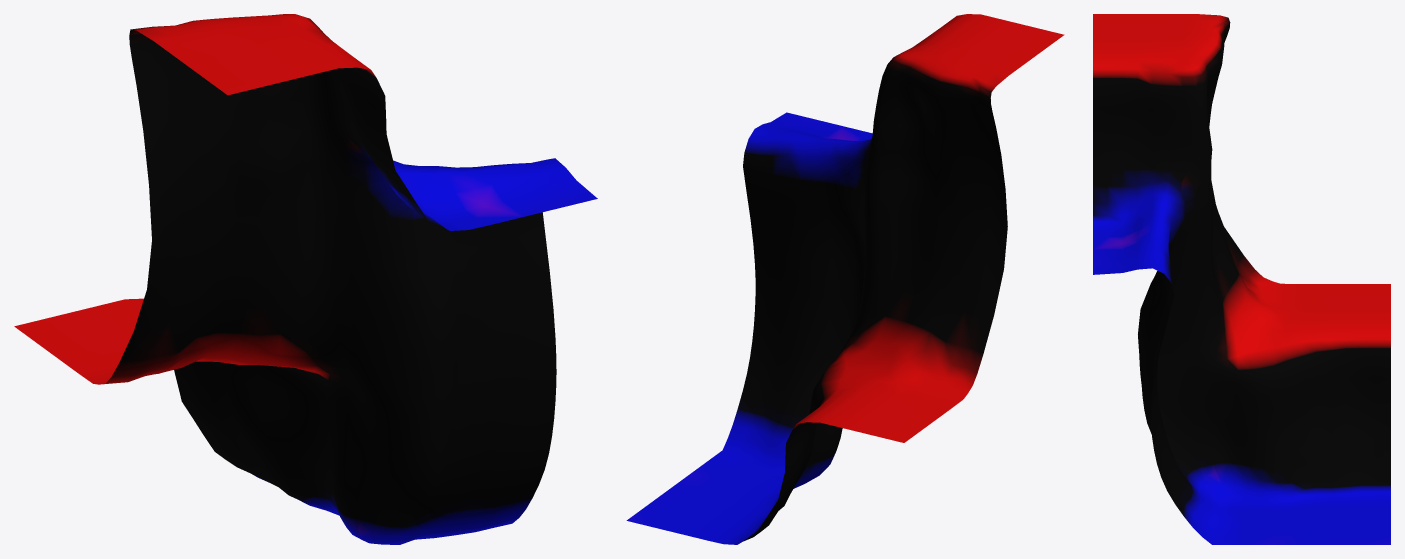
File: WaterFallCliff00C 3M.fbx
3 renders of one model, left to right at view 1: azimuth 30°, elevation 25°; view 2: azimuth 150°, elevation 25°; view 3: azimuth 270°, elevation 25°, orthographic. The views are drawn at different scales.
Visible parts, largest first — view 1: WaterFallCliff00C 3M; view 2: WaterFallCliff00C 3M; view 3: WaterFallCliff00C 3M.
Part boxes in pixels (x1,y1,x2,y2): WaterFallCliff00C 3M: [14, 14, 597, 544]; WaterFallCliff00C 3M: [626, 14, 1064, 544]; WaterFallCliff00C 3M: [1093, 14, 1390, 544].
Size of the model in its own units: 2 by 3 by 2.
